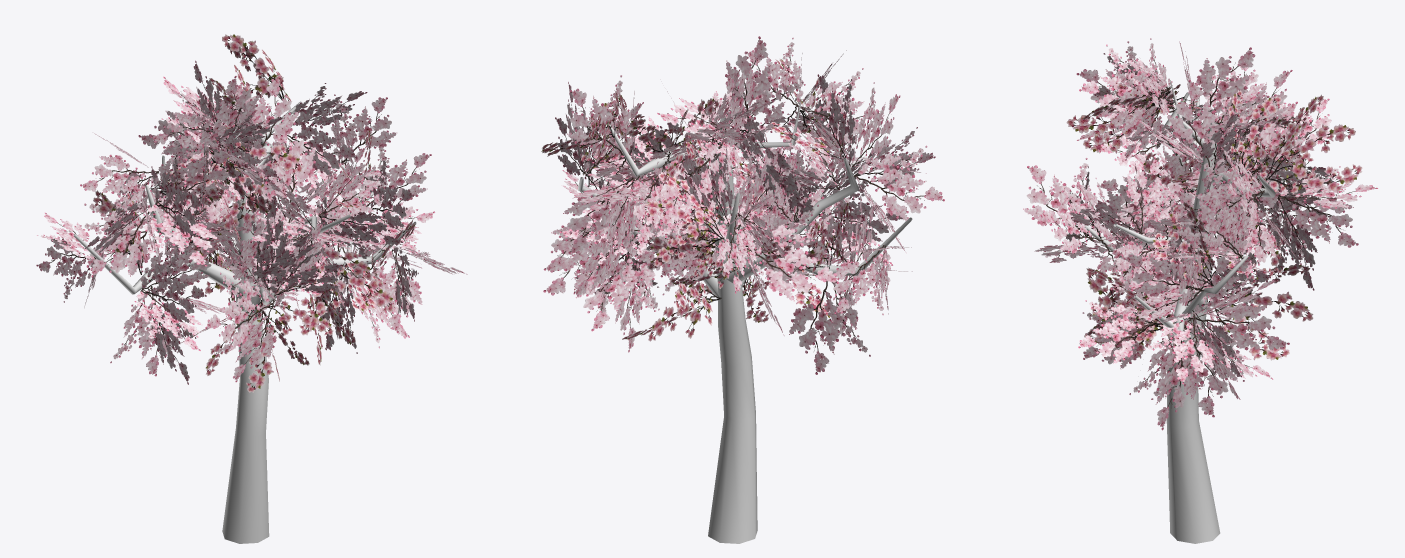
Rendered from SakuraTree2.fbx.
The picture shows the model from 3 angles, left to right: view 1: azimuth 30°, elevation 25°; view 2: azimuth 150°, elevation 25°; view 3: azimuth 270°, elevation 25°; orthographic projection. The views are drawn at different scales.
Visible parts, largest first — view 1: SakuraTree2; view 2: SakuraTree2; view 3: SakuraTree2.
Boxes of the visible parts, left/top/right/bottom form: SakuraTree2: left=36, top=34, right=467, bottom=543; SakuraTree2: left=541, top=36, right=944, bottom=543; SakuraTree2: left=1023, top=38, right=1377, bottom=543.
Bounding box in the file's own units: 658 × 761 × 554.
